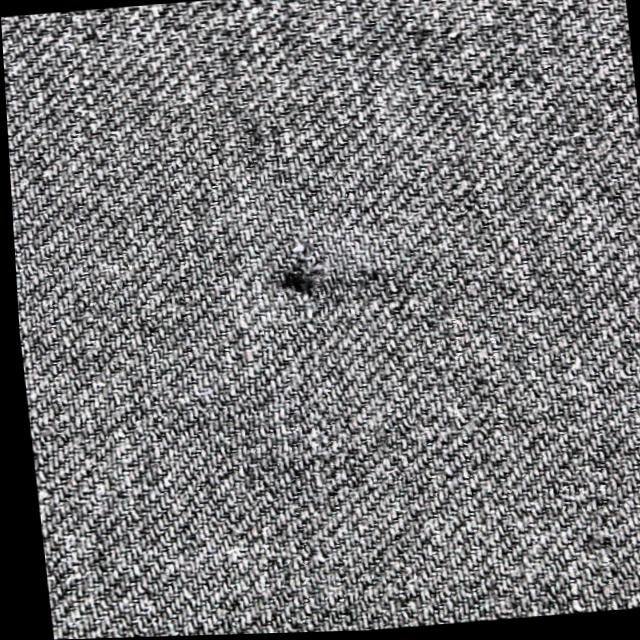Hole: (240, 240, 357, 321)
